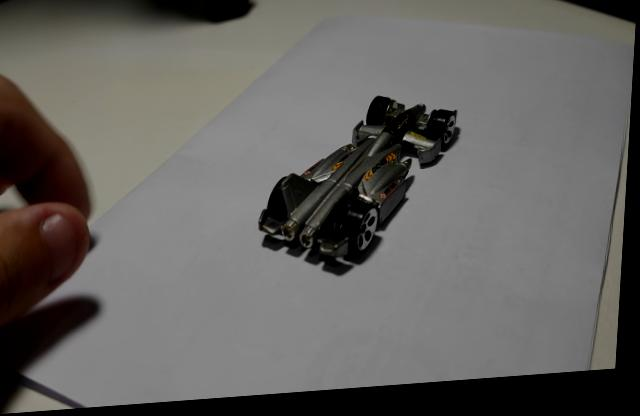05_DC121: (261, 103, 464, 271)
